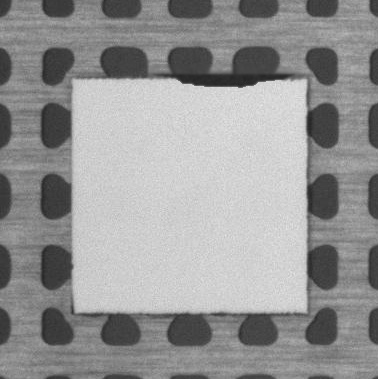DIE_BROKEN: (160, 70, 296, 89)
